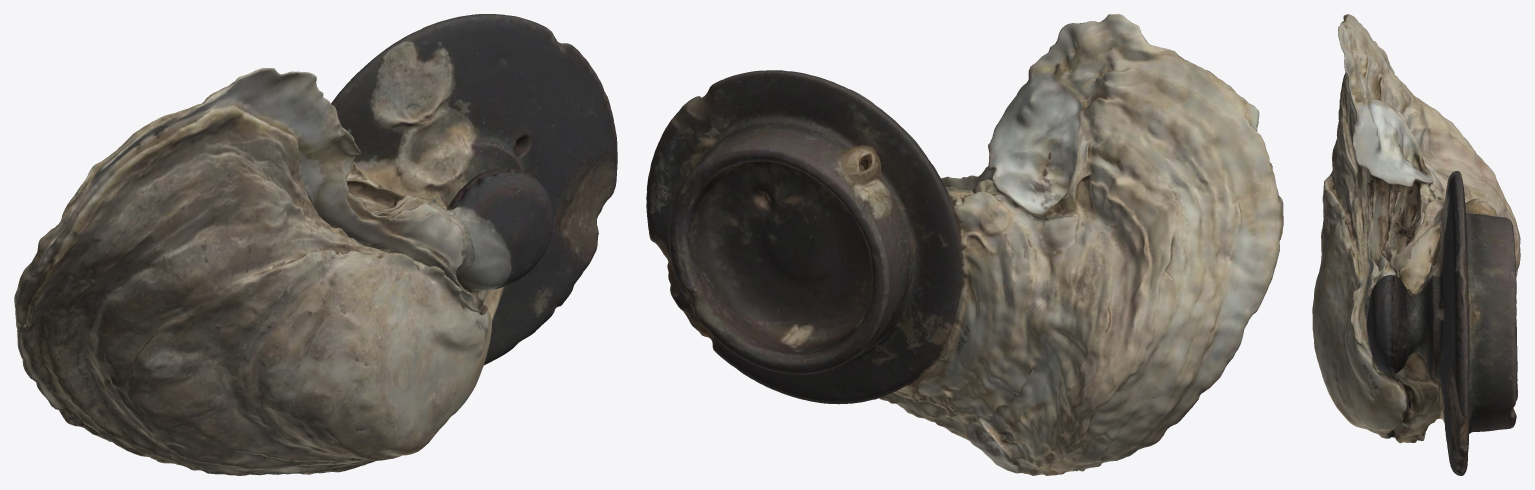
3 renders of one model, left to right at view 1: azimuth 30°, elevation 25°; view 2: azimuth 150°, elevation 25°; view 3: azimuth 270°, elevation 25°, orthographic. The views are drawn at different scales.
Visible parts, largest first — view 1: orientacao; view 2: orientacao; view 3: orientacao.
Boxes of the visible parts, <box> form: orientacao: <box>14,14,617,475</box>; orientacao: <box>646,14,1283,475</box>; orientacao: <box>1312,14,1520,475</box>.
Size of the model in its own units: 4915 by 3387 by 1776.
Materials: 1 (1 with a texture image).
